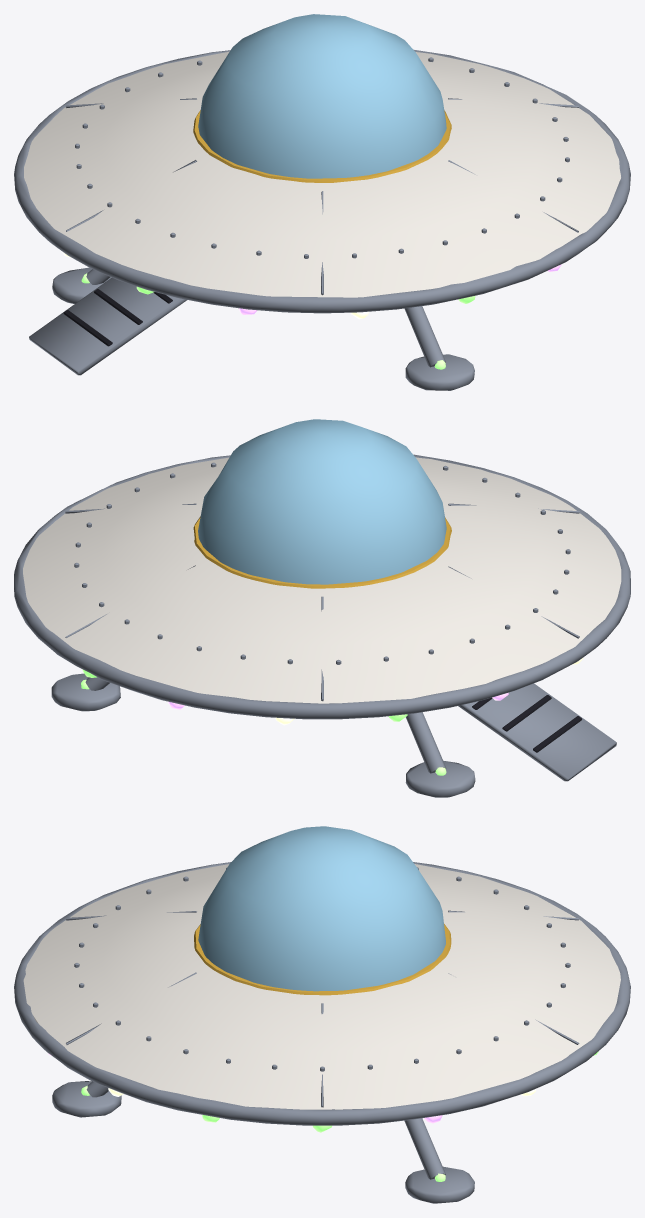
File: ufo.glb
3 renders of one model, top to bottom at view 1: azimuth 30°, elevation 25°; view 2: azimuth 150°, elevation 25°; view 3: azimuth 270°, elevation 25°, orthographic.
Visible parts, largest first — view 1: ufo.002; view 2: ufo.002; view 3: ufo.002.
Boxes of the visible parts, x1,y1,x2,y2 form: ufo.002: (14, 14, 630, 390); ufo.002: (14, 419, 630, 797); ufo.002: (14, 826, 630, 1203).
Size of the model in its own units: 6.19 by 2.9 by 6.16.
1 material, 1 textured.
